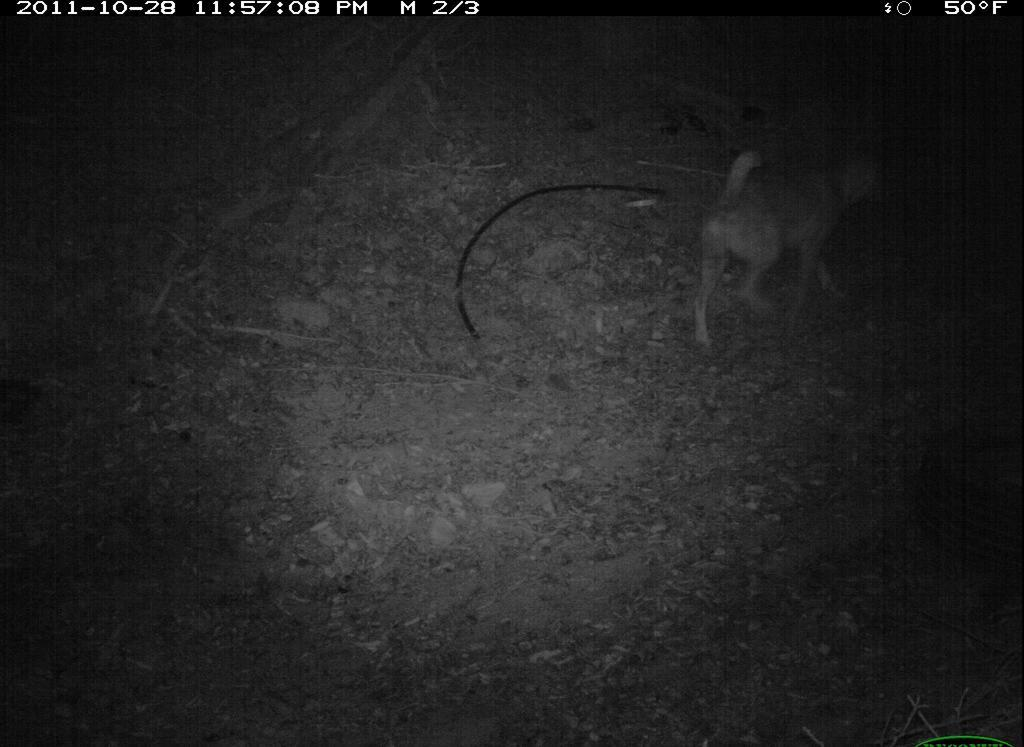dog: (675, 132, 912, 370)
